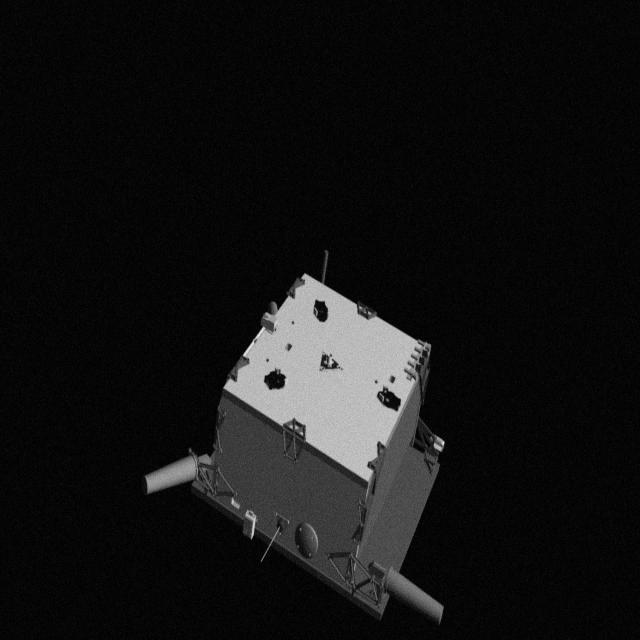satellite: (146, 246, 454, 628)
